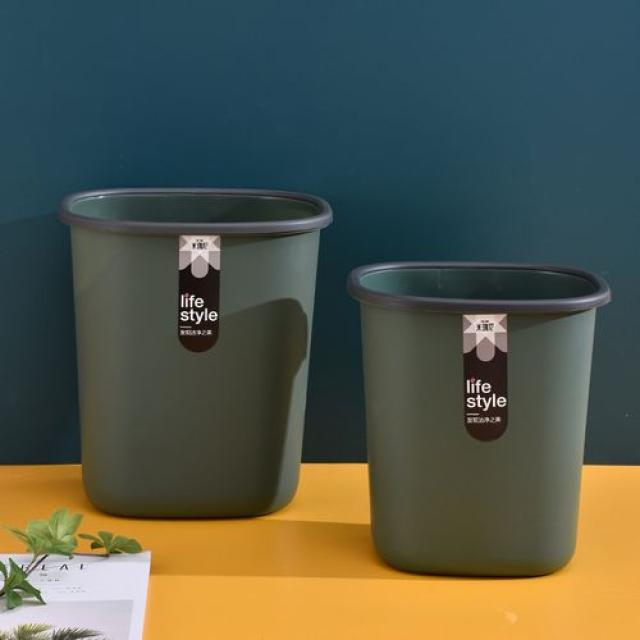dustbin: (55, 180, 336, 525), (344, 255, 614, 584)
